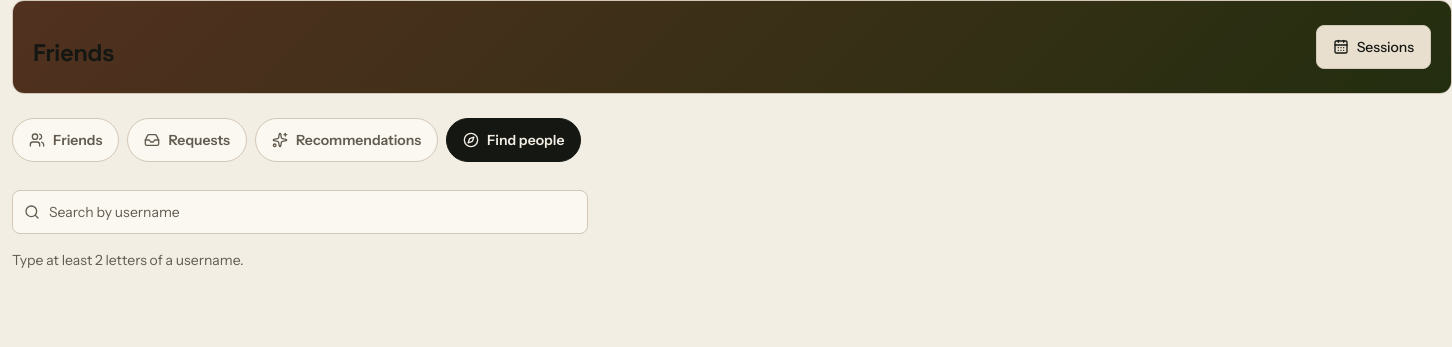
it: Friends page — find tab › shows an empty state when nobody matches and a scoped error when search fails
Type "zz" into the search field named "Search players by username" at (300, 212), box [12,190,588,234]
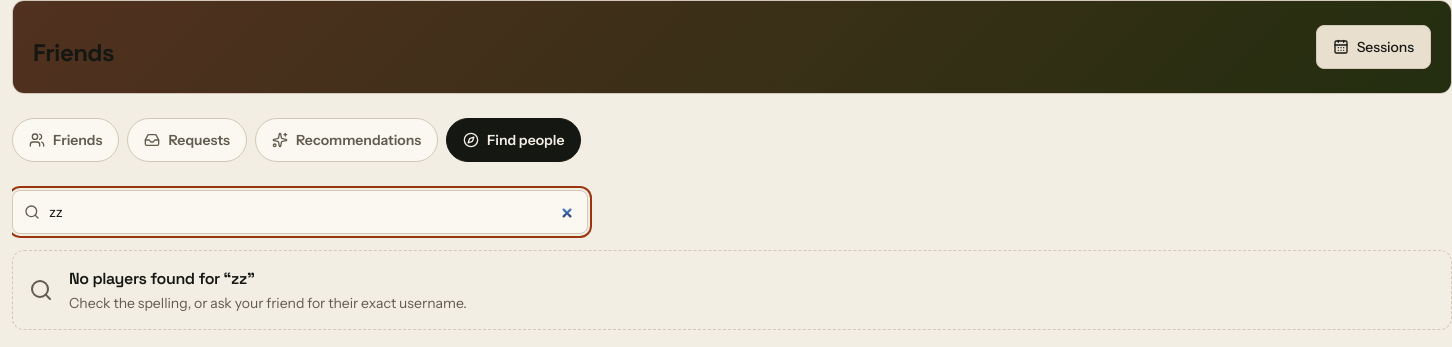
Expected: the heading "No players found for “zz”" is shown, [69,268,254,289]
